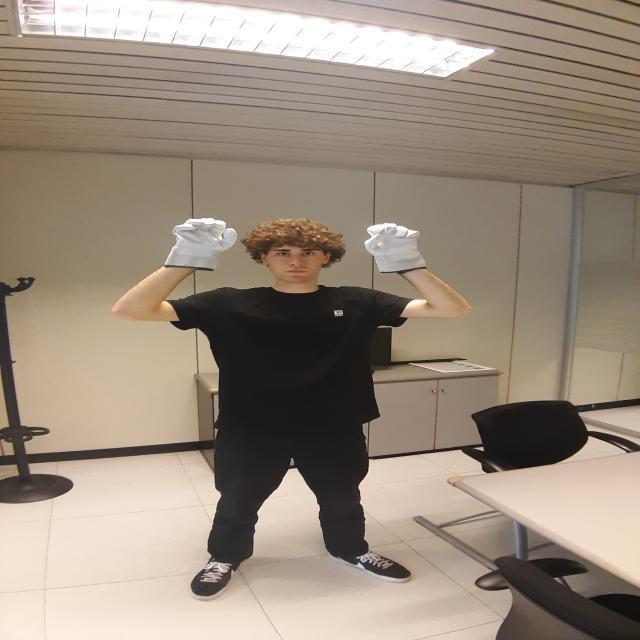gloved_hand: (166, 216, 238, 274), (359, 223, 431, 276)
